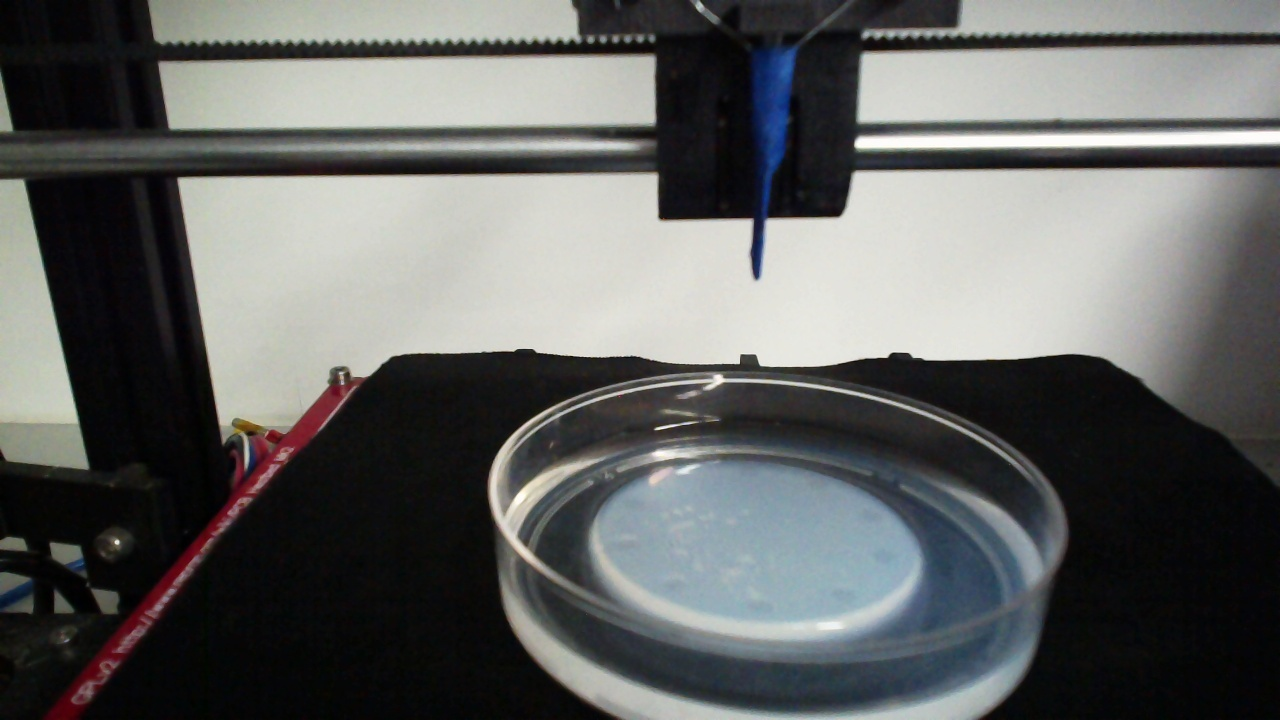groove: (656, 569, 691, 596), (869, 543, 903, 570), (743, 595, 778, 619), (826, 583, 862, 606), (856, 504, 888, 529), (733, 461, 768, 483), (607, 534, 643, 555), (619, 492, 650, 515), (804, 475, 831, 497)
needle: (750, 52, 795, 279)
